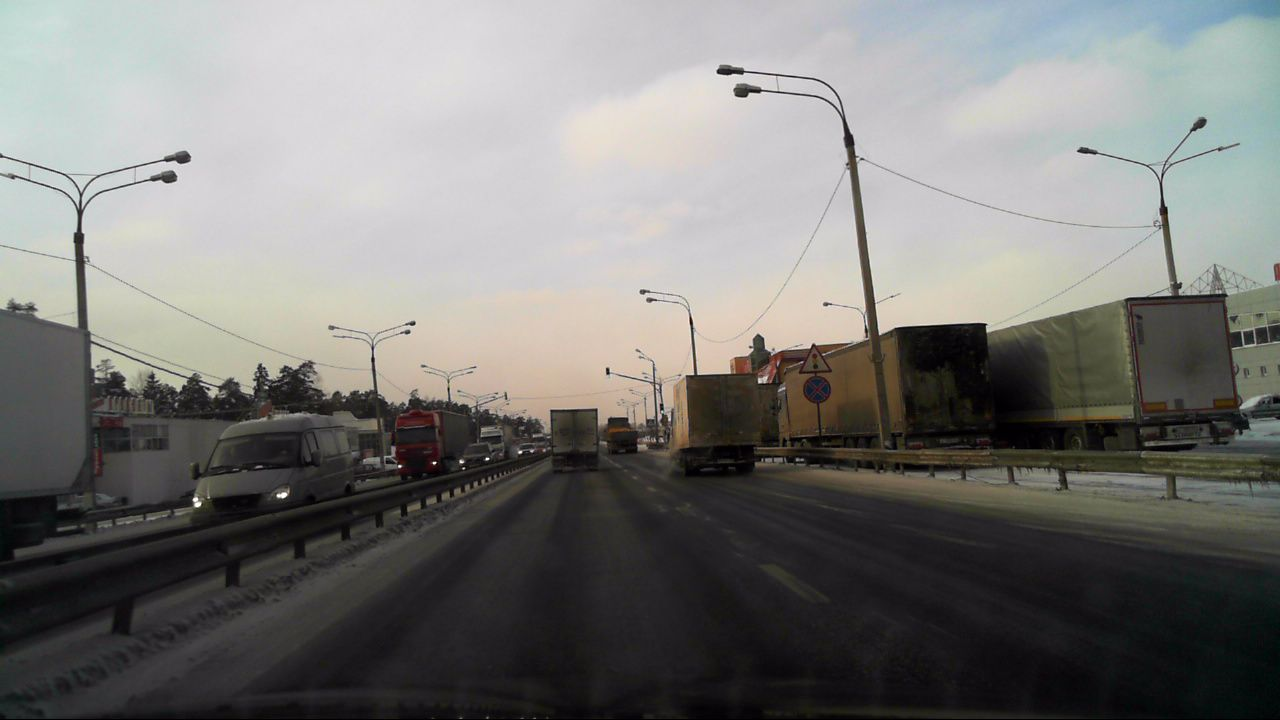No Parking: (803, 376, 830, 403)
